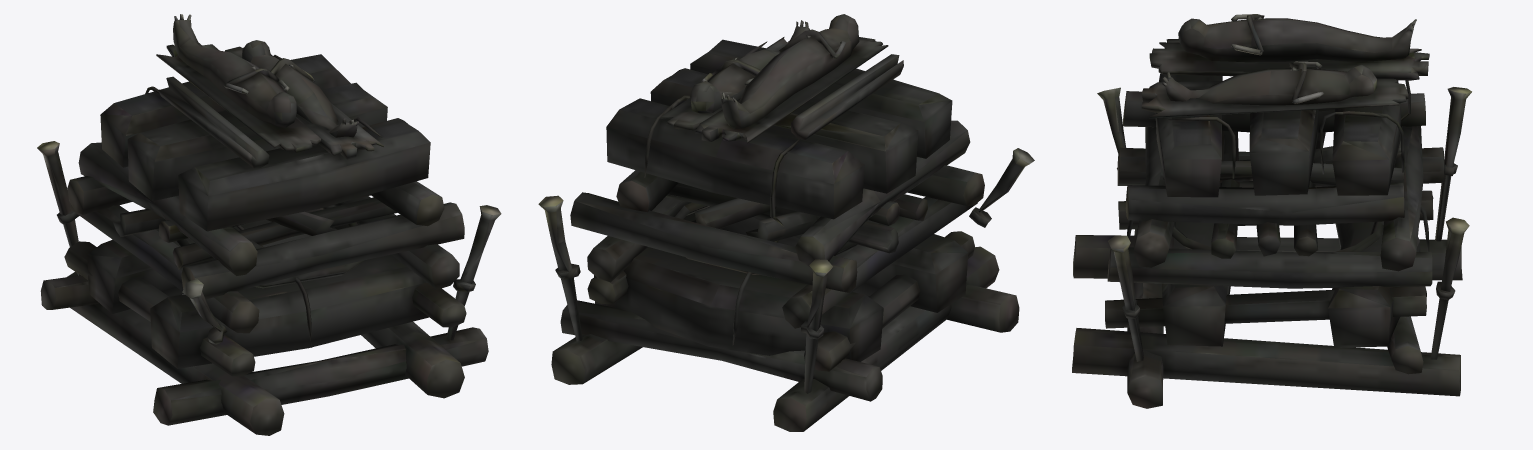
Rendered from pyre_stack.glb.
3 views of the same model, side by side, from view 1: azimuth 30°, elevation 25°; view 2: azimuth 150°, elevation 25°; view 3: azimuth 270°, elevation 25° (orthographic). The views are drawn at different scales.
Parts seen in each view (by area): view 1: tripo_node_b30e0578-d719-49c0-ad75-f0b870451805; view 2: tripo_node_b30e0578-d719-49c0-ad75-f0b870451805; view 3: tripo_node_b30e0578-d719-49c0-ad75-f0b870451805.
Boxes of the visible parts, x1,y1,x2,y2 form: tripo_node_b30e0578-d719-49c0-ad75-f0b870451805: (37,14,501,435); tripo_node_b30e0578-d719-49c0-ad75-f0b870451805: (538,14,1034,431); tripo_node_b30e0578-d719-49c0-ad75-f0b870451805: (1072,14,1471,408).
Size of the model in its own units: 0.998 by 0.7441 by 0.998.
Materials: 1 (1 with a texture image).
